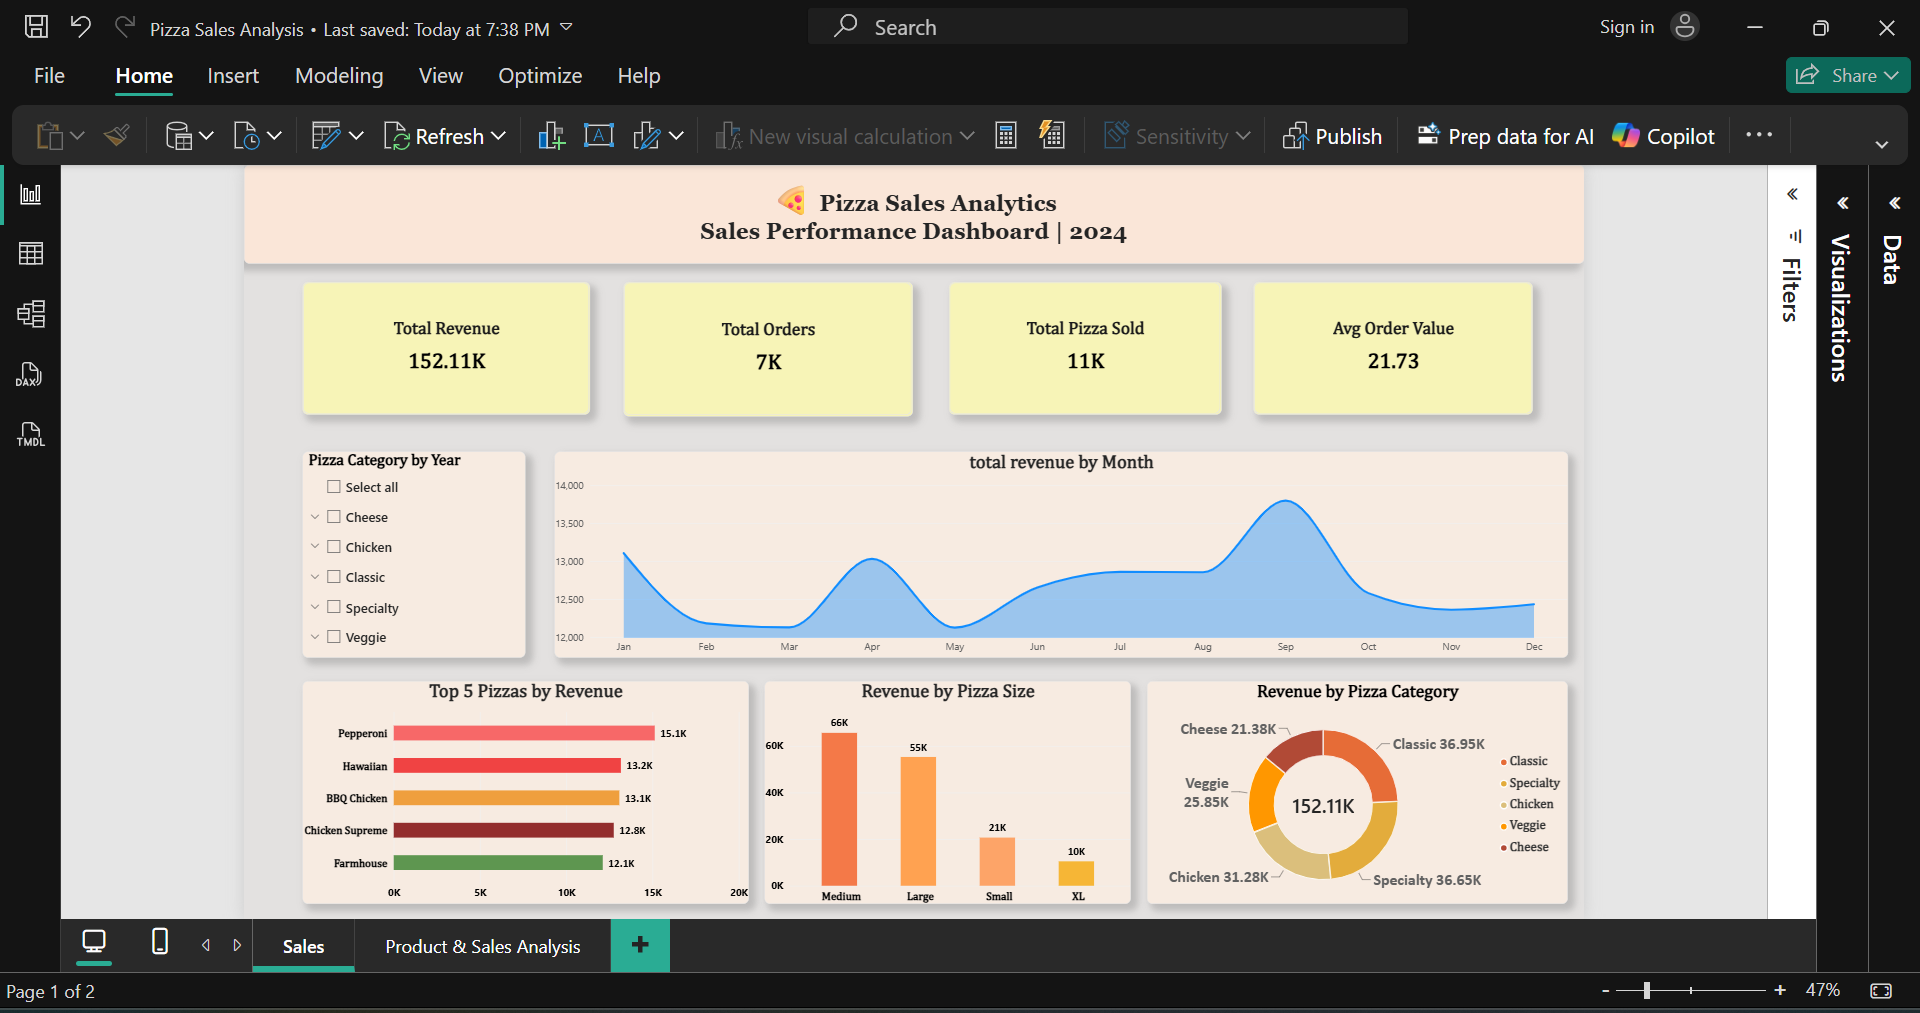

The dashboard page shown, as its layout file describes it:
{"tool":"powerbi","page":{"name":"Sales","canvas":[1920,1080],"ordinal":0},"visuals":[{"type":"textbox","box":[0,0,1920.1,141.5],"z":0},{"type":"cardVisual","fields":{"Data":["DateTable.total revenue"]},"box":[83,168.3,412.3,190.3],"z":1000},{"type":"cardVisual","fields":{"Data":["DateTable.Total orders"]},"box":[544.1,168.3,414.8,192.7],"z":2000},{"type":"cardVisual","fields":{"Data":["DateTable.Total Pizza Sold"]},"box":[1010.1,168.3,390.4,190.3],"z":3000},{"type":"cardVisual","fields":{"Data":["DateTable.Avg order value"]},"box":[1446.8,168.3,400.1,190.3],"z":4000},{"type":"donutChart","title":"Revenue by Pizza Category","fields":{"Category":["pizza_sales.pizza_category"],"Y":["DateTable.total revenue"]},"box":[1293.1,739.3,602.6,319.6],"z":5000},{"type":"columnChart","title":"Revenue by Pizza Size","fields":{"Category":["pizza_sales.pizza_size"],"Y":["DateTable.total revenue"]},"box":[746.6,739.3,524.6,319.6],"z":6000},{"type":"barChart","title":"Top 5 Pizzas by Revenue","fields":{"Category":["pizza_sales.pizza_name"],"Y":["DateTable.total revenue"]},"box":[83,739.3,639.2,319.6],"z":7000},{"type":"slicer","fields":{"Values":["pizza_sales.pizza_category","pizza_sales.pizza_size","DateTable.Year"]},"box":[83,409.9,319.6,295.2],"z":8000},{"type":"stackedAreaChart","fields":{"Category":["DateTable.Month"],"Y":["DateTable.total revenue"]},"box":[444,409.9,1451.7,295.2],"z":9000}]}

Visuals, with their boxes on the page's 1920x1080 design canvas (x1, y1, x2, y2). These are canvas units, not pixel positions in the 1920x1013 screenshot, which may show the page scaled, cropped or inside an application window:
textbox: locate(0, 0, 1920, 142)
cardVisual - DateTable.total revenue: locate(83, 168, 495, 359)
cardVisual - DateTable.Total orders: locate(544, 168, 959, 361)
cardVisual - DateTable.Total Pizza Sold: locate(1010, 168, 1400, 359)
cardVisual - DateTable.Avg order value: locate(1447, 168, 1847, 359)
"Revenue by Pizza Category" donutChart: locate(1293, 739, 1896, 1059)
"Revenue by Pizza Size" columnChart: locate(747, 739, 1271, 1059)
"Top 5 Pizzas by Revenue" barChart: locate(83, 739, 722, 1059)
slicer - pizza_sales.pizza_category x pizza_sales.pizza_size: locate(83, 410, 403, 705)
stackedAreaChart - DateTable.Month x DateTable.total revenue: locate(444, 410, 1896, 705)
